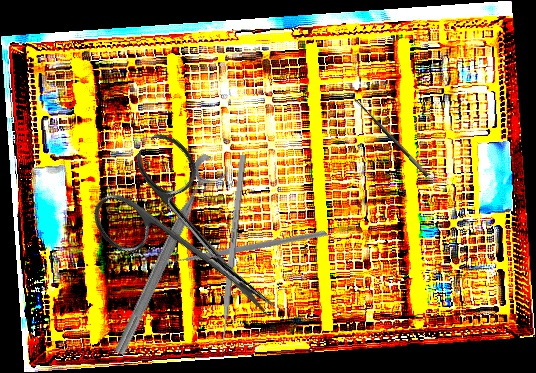Chopper: (155, 158, 329, 329)
Fixation Ring: (108, 151, 233, 364)
Hook Surgical: (341, 89, 431, 184)
Iris Scissors: (80, 126, 314, 354)
Pusher: (217, 154, 247, 361)
